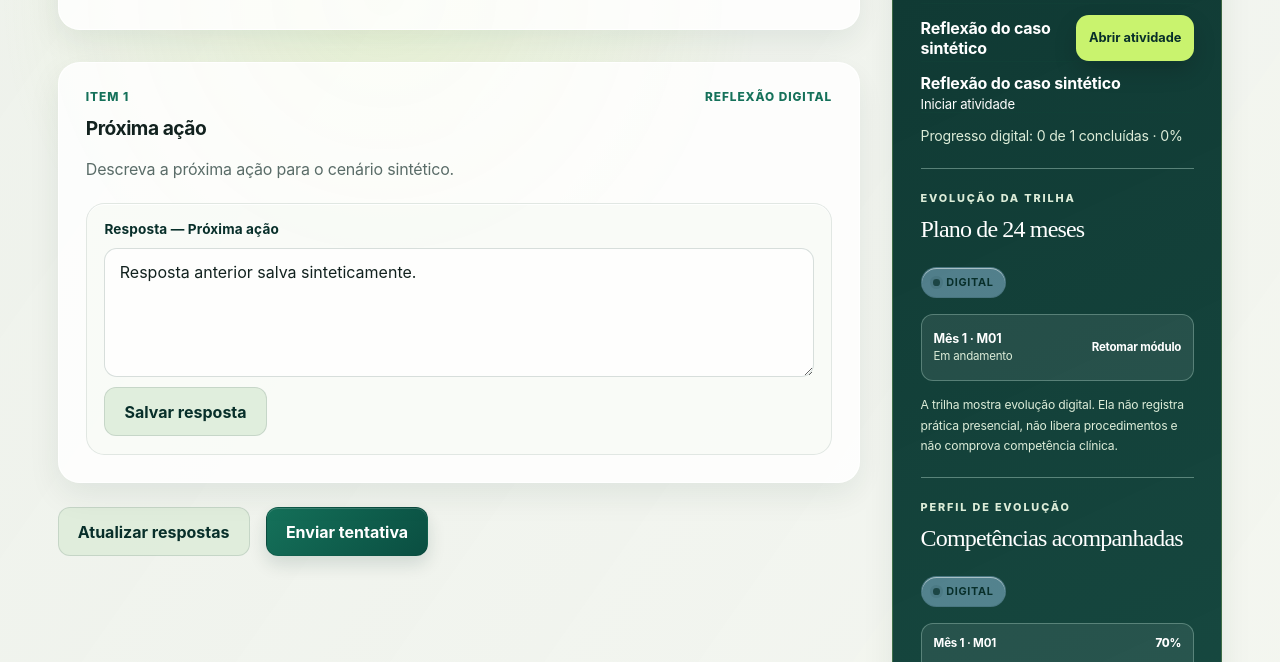
Test case: resumes a persisted digital reflection and updates its participant projection
(page scrolled)
Expected: the heading "Competências acompanhadas" is shown, [921, 524, 1194, 552]
Replace the text in the text box labelled "Resposta — Próxima ação" with "Descrever a próxima ação sintética." at (459, 312), box [104, 248, 814, 377]
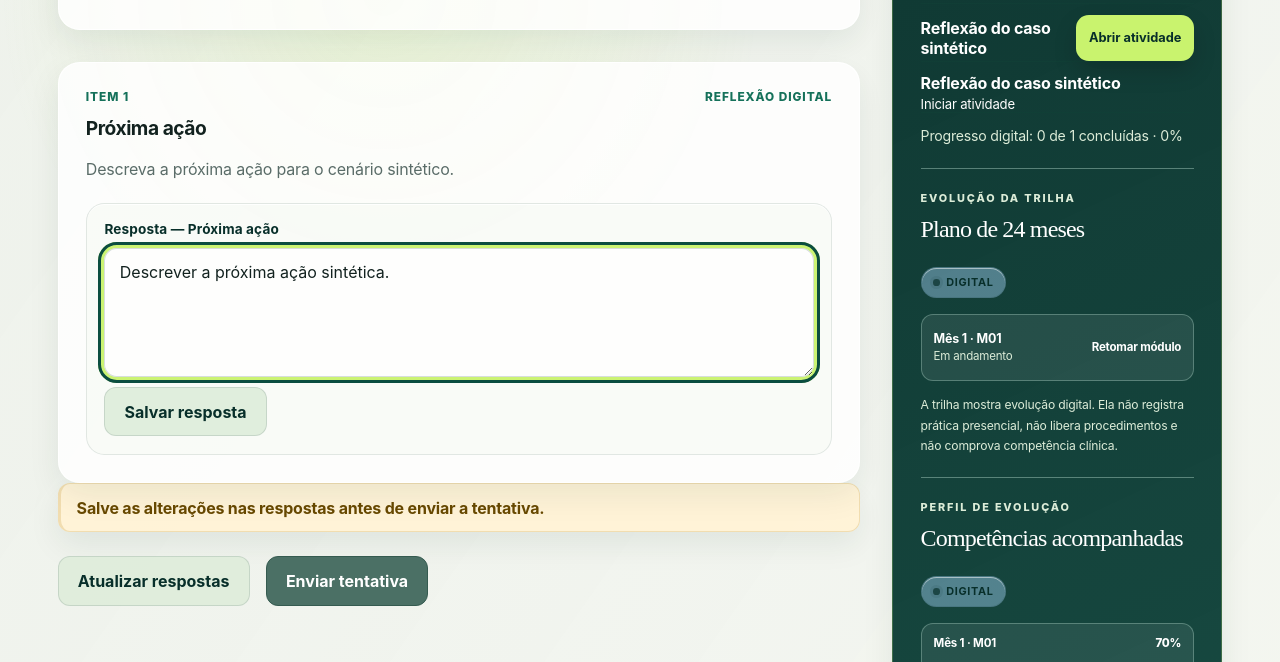
Click the button "Salvar resposta".
click(186, 412)  # box [104, 387, 267, 436]
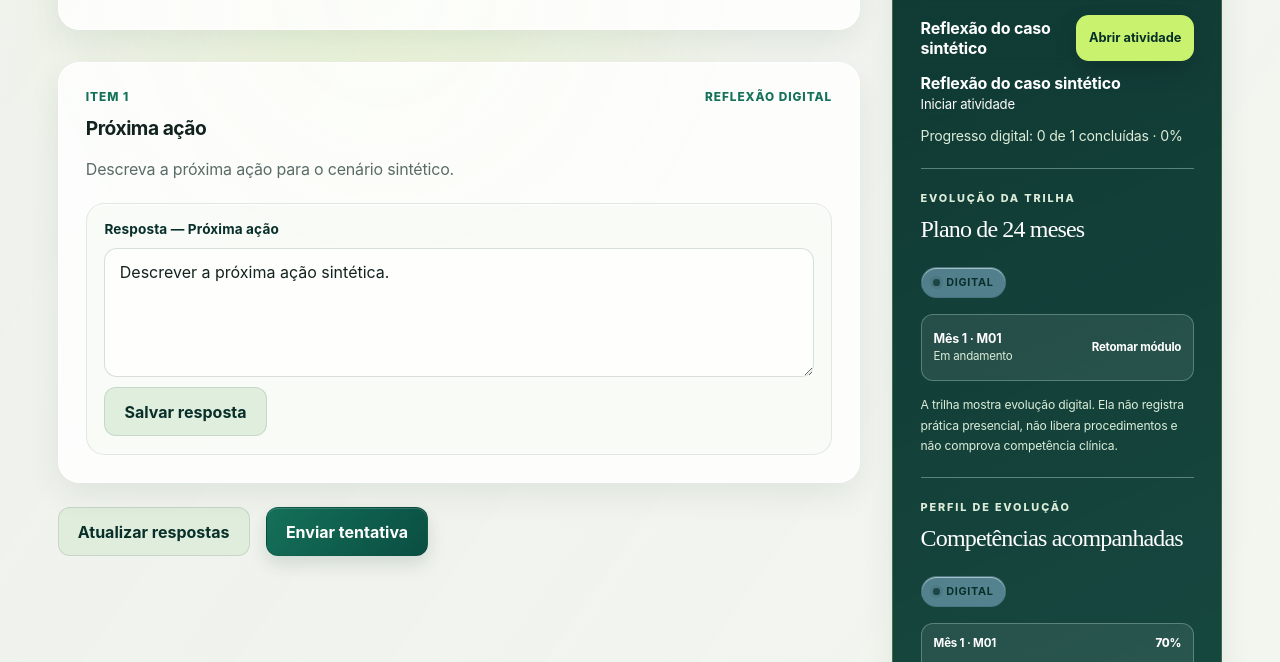
Click the button "Enviar tentativa".
click(347, 532)  # box [266, 507, 428, 556]
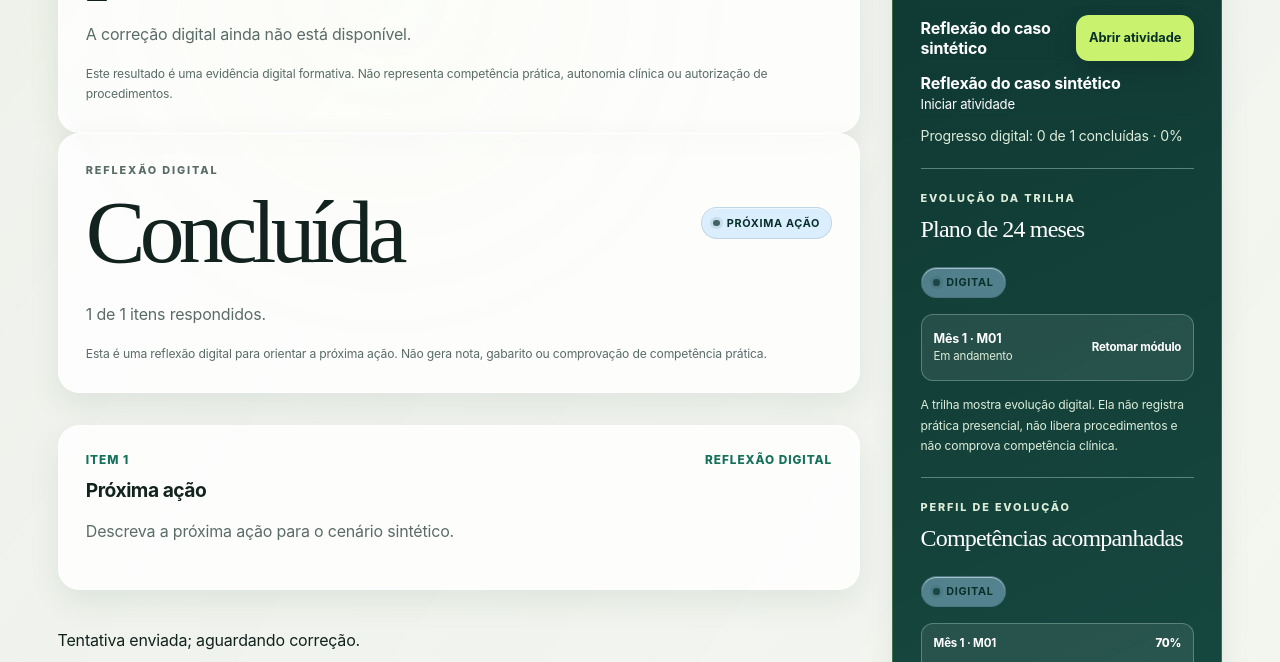
Expected: the element with test id "reflection-state" shows "Próxima ação", [727, 216, 820, 230]
Expected: the element with test id "reflection-state" shows "Concluída", [86, 182, 402, 281]
